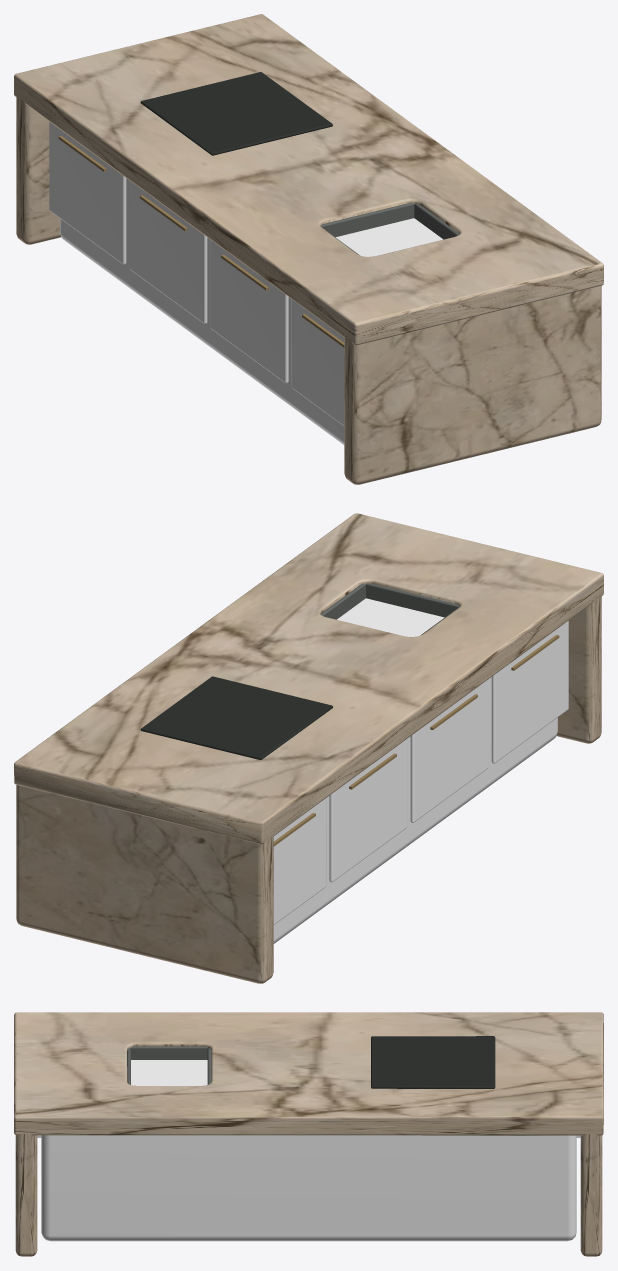
File: island.glb
3 views of the same model, one above another, from view 1: azimuth 30°, elevation 25°; view 2: azimuth 150°, elevation 25°; view 3: azimuth 270°, elevation 25° (orthographic). The views are drawn at different scales.
Parts seen in each view (by area): view 1: Travertine waterfall island.001, Waterfall end.002, Flush induction hob.001, Island walnut core.001, Island inset drawer.006, Island inset drawer.005, Island inset drawer.007, Waterfall end.003, Island inset drawer.004, Sink side.007, Sink side.005; view 2: Travertine waterfall island.001, Waterfall end.003, Flush induction hob.001, Island walnut core.001, Island inset drawer.005, Island inset drawer.006, Island inset drawer.004, Waterfall end.002, Island inset drawer.007, Sink side.006, Sink side.005; view 3: Travertine waterfall island.001, Island walnut core.001, Flush induction hob.001, Waterfall end.002, Waterfall end.003, Sink side.004.
Boxes of the visible parts, <box> form: Travertine waterfall island.001: <box>14,14,603,345</box>; Waterfall end.002: <box>344,285,601,484</box>; Flush induction hob.001: <box>140,72,332,155</box>; Island walnut core.001: <box>60,178,442,444</box>; Island inset drawer.006: <box>129,180,207,323</box>; Island inset drawer.005: <box>210,240,288,383</box>; Island inset drawer.007: <box>49,122,126,264</box>; Waterfall end.003: <box>16,97,61,244</box>; Island inset drawer.004: <box>291,299,344,425</box>; Sink side.007: <box>321,203,414,237</box>; Sink side.005: <box>414,203,459,239</box>; Travertine waterfall island.001: <box>14,513,603,844</box>; Waterfall end.003: <box>16,785,273,983</box>; Flush induction hob.001: <box>140,676,332,759</box>; Island walnut core.001: <box>273,598,557,943</box>; Island inset drawer.005: <box>410,679,488,822</box>; Island inset drawer.006: <box>329,739,407,882</box>; Island inset drawer.004: <box>491,621,568,763</box>; Waterfall end.002: <box>556,596,601,743</box>; Island inset drawer.007: <box>273,798,326,924</box>; Sink side.006: <box>366,583,459,617</box>; Sink side.005: <box>320,583,365,619</box>; Travertine waterfall island.001: <box>14,1012,603,1135</box>; Island walnut core.001: <box>41,1060,576,1241</box>; Flush induction hob.001: <box>371,1036,495,1088</box>; Waterfall end.002: <box>15,1134,37,1256</box>; Waterfall end.003: <box>580,1134,602,1256</box>; Sink side.004: <box>130,1046,207,1059</box>.
Size of the model in its own units: 1.6 by 1.03 by 3.8.
Materials: 6 (1 with a texture image).
